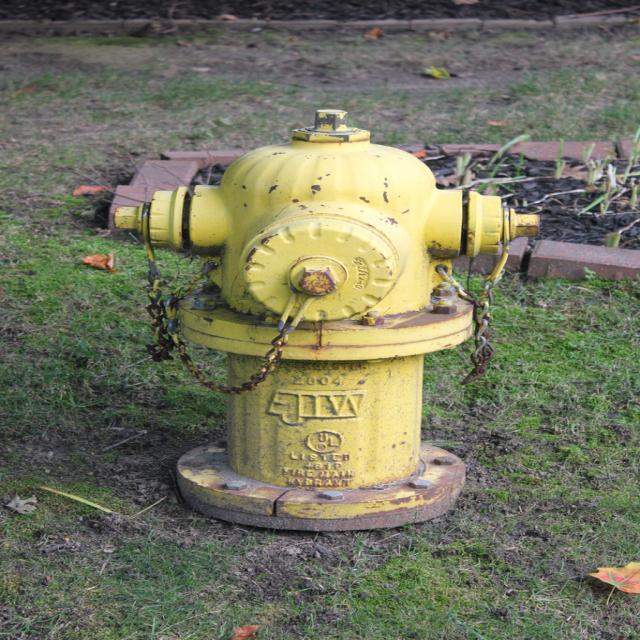fire_hydrant: (114, 108, 541, 530)
